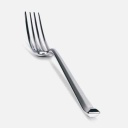fork: (19, 7, 104, 123)
